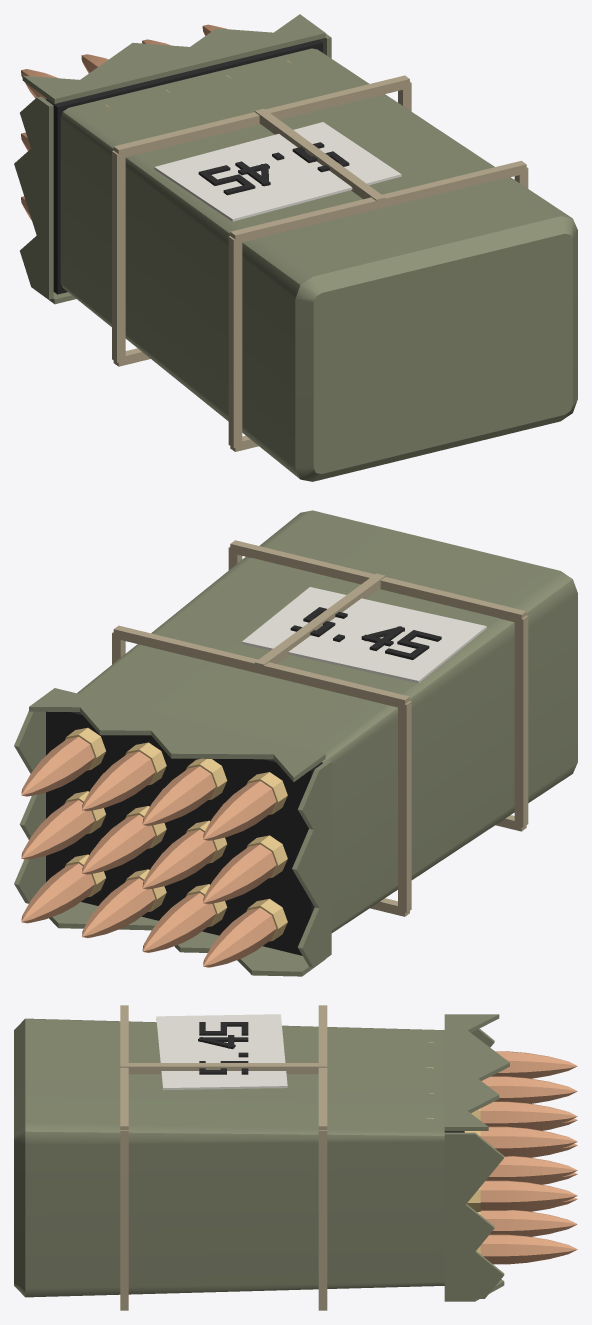
Rendered from ammo_545.glb.
3 renders of one model, top to bottom at view 1: azimuth 30°, elevation 25°; view 2: azimuth 150°, elevation 25°; view 3: azimuth 270°, elevation 25°, orthographic. The views are drawn at different scales.
Visible parts, largest first — view 1: body; view 2: body; view 3: body.
Boxes of the visible parts, x1=… form: body: x1=14, y1=14, x2=577, y2=481; body: x1=14, y1=510, x2=577, y2=976; body: x1=14, y1=1005, x2=577, y2=1310.
Bounding box in the file's own units: 0.0511 × 0.0361 × 0.0995.
